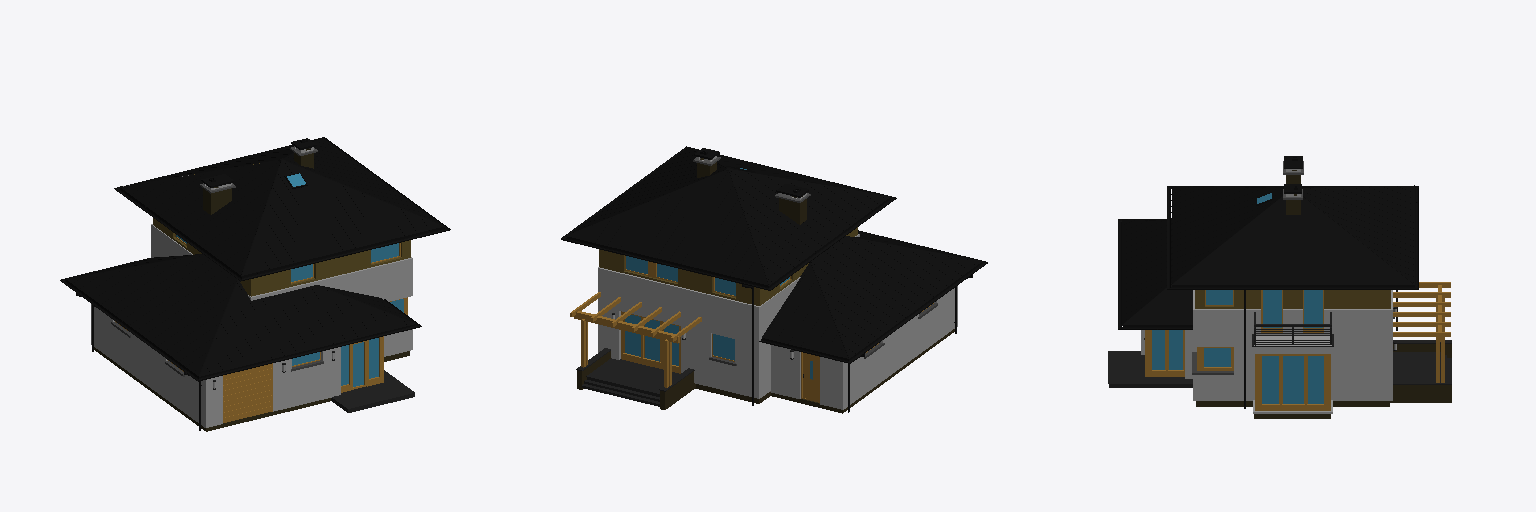
Rendered from house.obj.
3 views of the same model, side by side, from view 1: azimuth 30°, elevation 25°; view 2: azimuth 150°, elevation 25°; view 3: azimuth 270°, elevation 25° (orthographic).
Parts seen in each view (by area): view 1: Bambo_House; view 2: Bambo_House; view 3: Bambo_House.
Boxes of the visible parts, <box> form: Bambo_House: <box>60,137,450,431</box>; Bambo_House: <box>561,146,987,413</box>; Bambo_House: <box>1108,156,1451,418</box>.
Bounding box in the file's own units: 13.64 × 9 × 14.54.